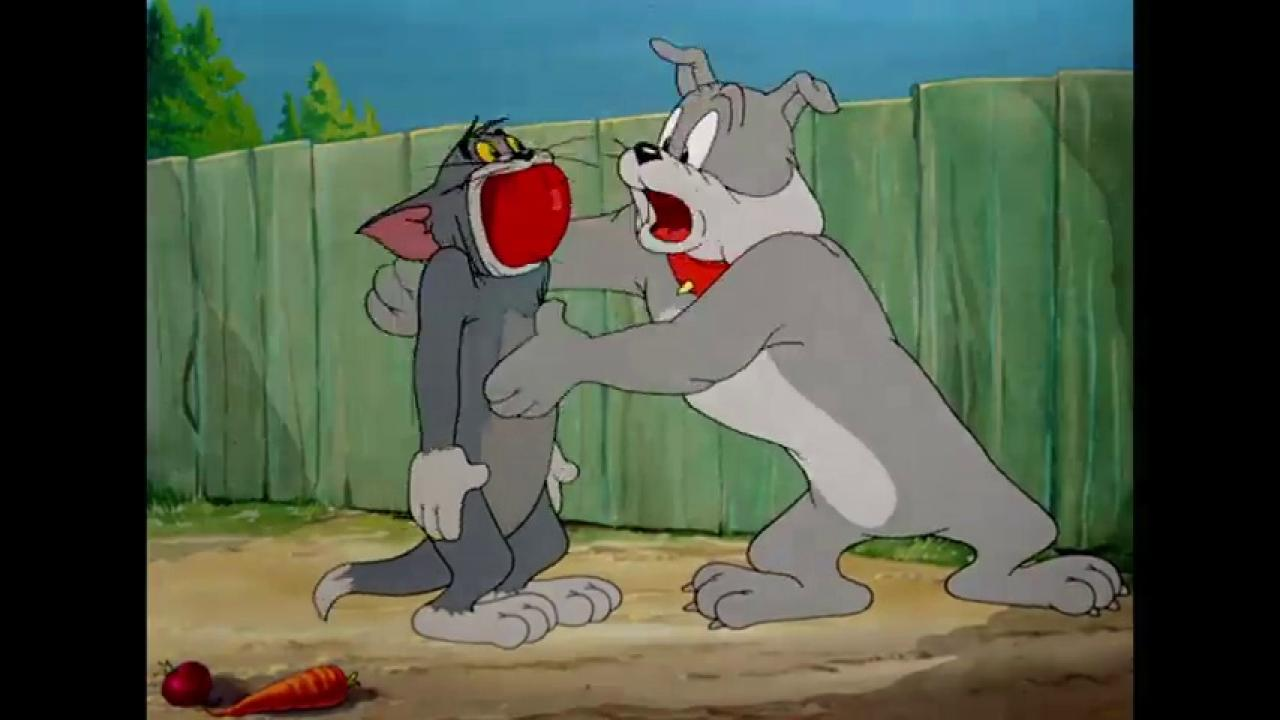Tom: (310, 115, 623, 653)
